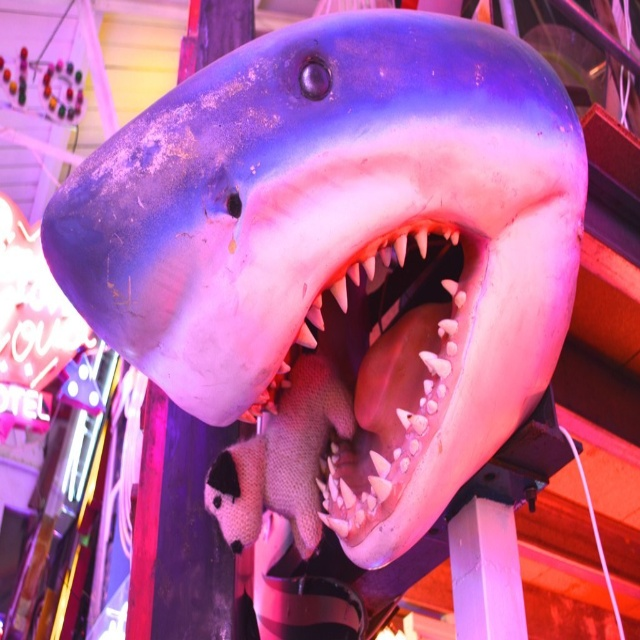Shark: (40, 5, 589, 576)
